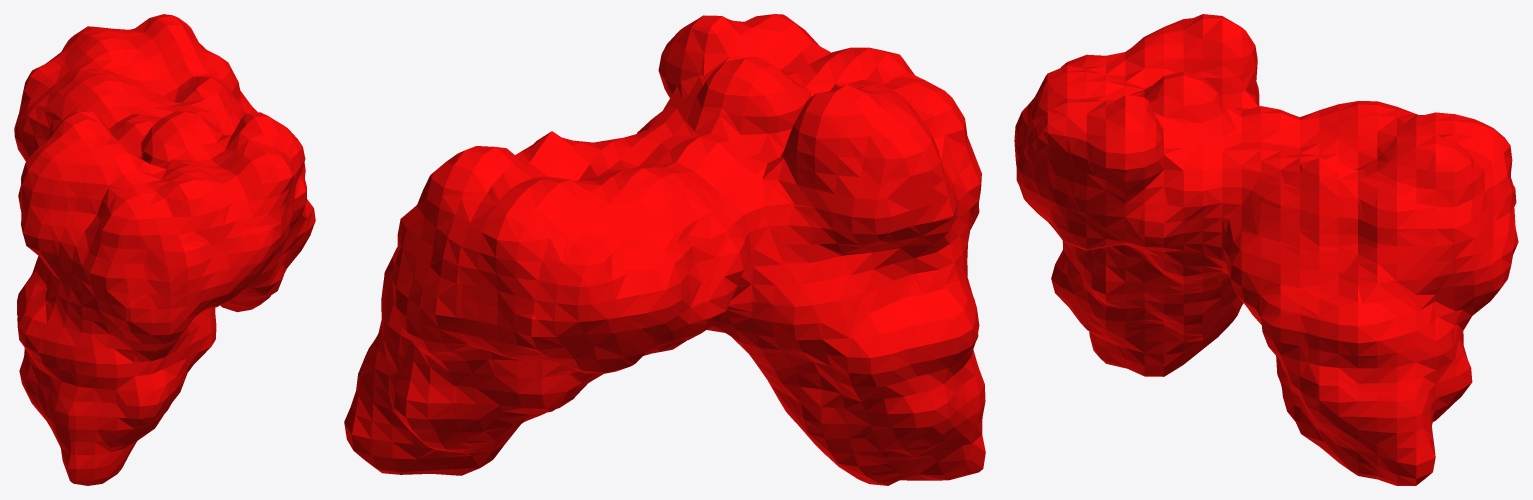
The model's file is nagA_coarse.dae.
The picture shows the model from 3 angles, left to right: view 1: azimuth 30°, elevation 25°; view 2: azimuth 150°, elevation 25°; view 3: azimuth 270°, elevation 25°; orthographic projection. The views are drawn at different scales.
Visible parts, largest first — view 1: nagA; view 2: nagA; view 3: nagA.
Part boxes in pixels (<box>): nagA: <box>14,14,315,485</box>; nagA: <box>344,14,985,485</box>; nagA: <box>1014,14,1518,485</box>.
Size of the model in its own units: 81.06 by 67.76 by 85.97.
